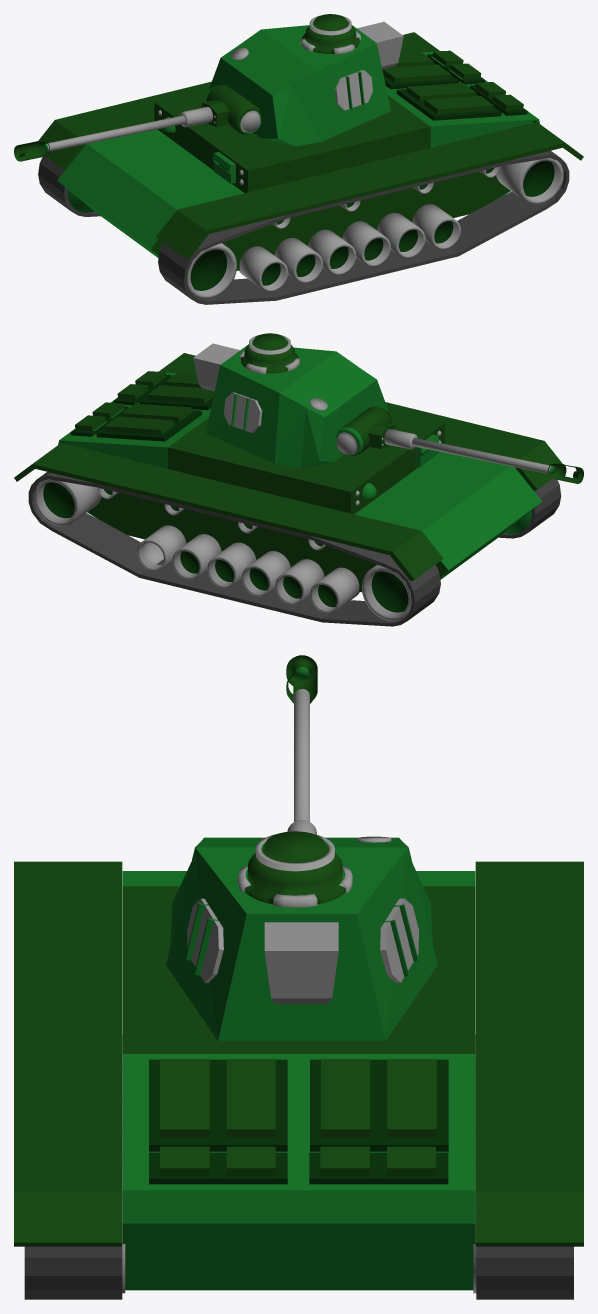
File: tank.dae
3 views of the same model, one above another, from view 1: azimuth 30°, elevation 25°; view 2: azimuth 150°, elevation 25°; view 3: azimuth 270°, elevation 25° (orthographic). The views are drawn at different scales.
Parts seen in each view (by area): view 1: Cube_003, Cube_000, Cube_001; view 2: Cube_003, Cube_000, Cube_001; view 3: Cube_003, Cube_000, Cube_001.
Boxes of the visible parts, x1,y1,x2,y2 form: Cube_003: (38,32,583,304); Cube_000: (209,14,403,146); Cube_001: (14,84,261,161); Cube_003: (14,353,562,626); Cube_000: (193,333,388,468); Cube_001: (335,406,583,483); Cube_003: (14,861,583,1299); Cube_000: (166,831,437,1040); Cube_001: (286,655,317,834).
Bounding box in the file's own units: 3.61 × 1.93 × 1.39.
